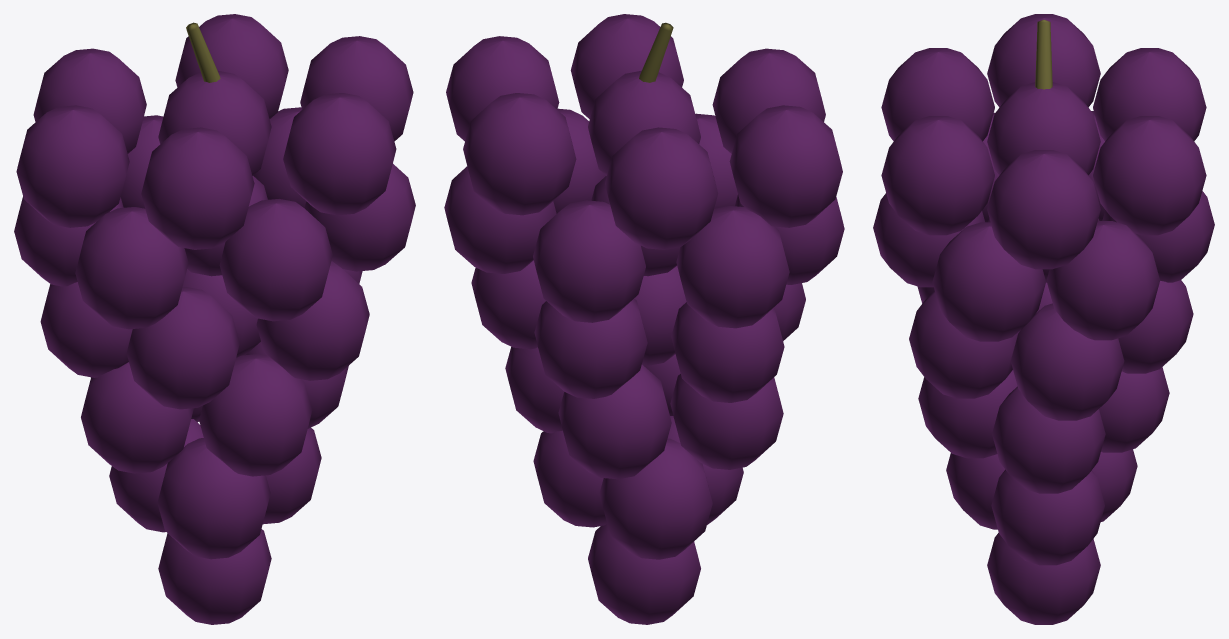
File: grape.glb
The picture shows the model from 3 angles, left to right: view 1: azimuth 30°, elevation 25°; view 2: azimuth 150°, elevation 25°; view 3: azimuth 270°, elevation 25°; orthographic projection.
Parts seen in each view (by area): view 1: package_mesh; view 2: package_mesh; view 3: package_mesh.
Boxes of the visible parts, <box> form: package_mesh: <box>14,14,415,624</box>; package_mesh: <box>444,14,844,624</box>; package_mesh: <box>873,14,1214,624</box>.
Bounding box in the file's own units: 0.3809 × 0.5772 × 0.303.
